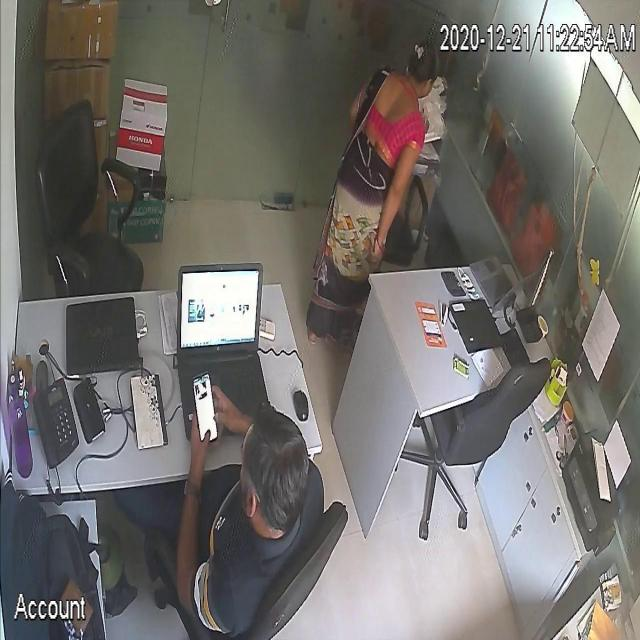chair: (398, 352, 551, 548), (151, 498, 351, 640), (29, 96, 147, 291), (386, 162, 429, 268)
laptop: (174, 256, 275, 453), (64, 295, 144, 377), (452, 290, 506, 354)
person: (124, 387, 324, 638), (304, 34, 442, 346)
phone: (194, 367, 218, 458)
